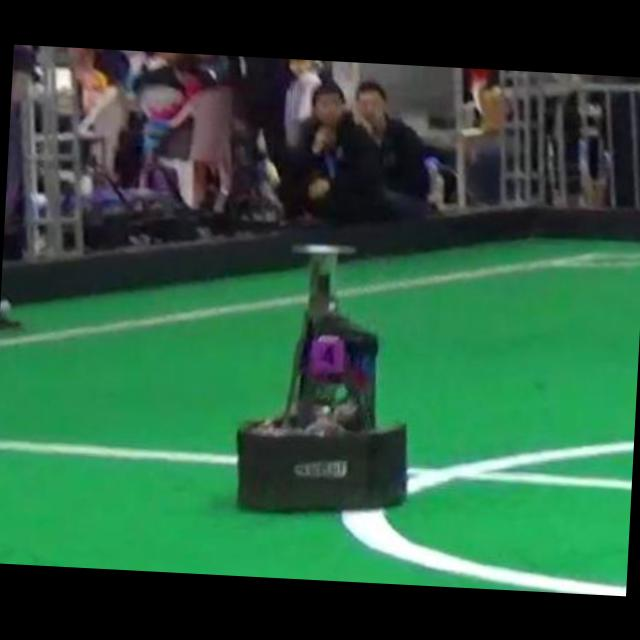robot: (238, 245, 406, 510)
